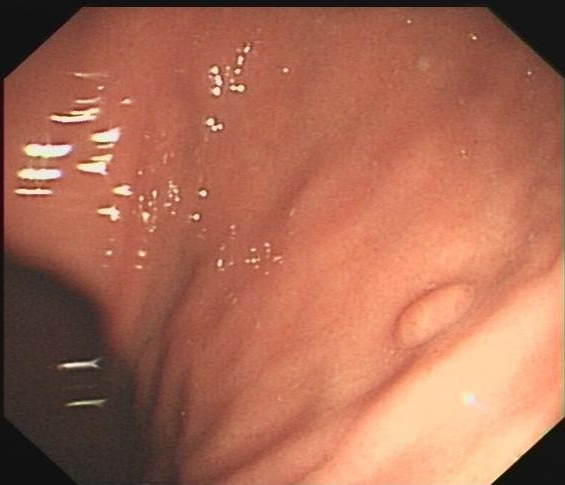Polyp: (387, 275, 483, 352)
